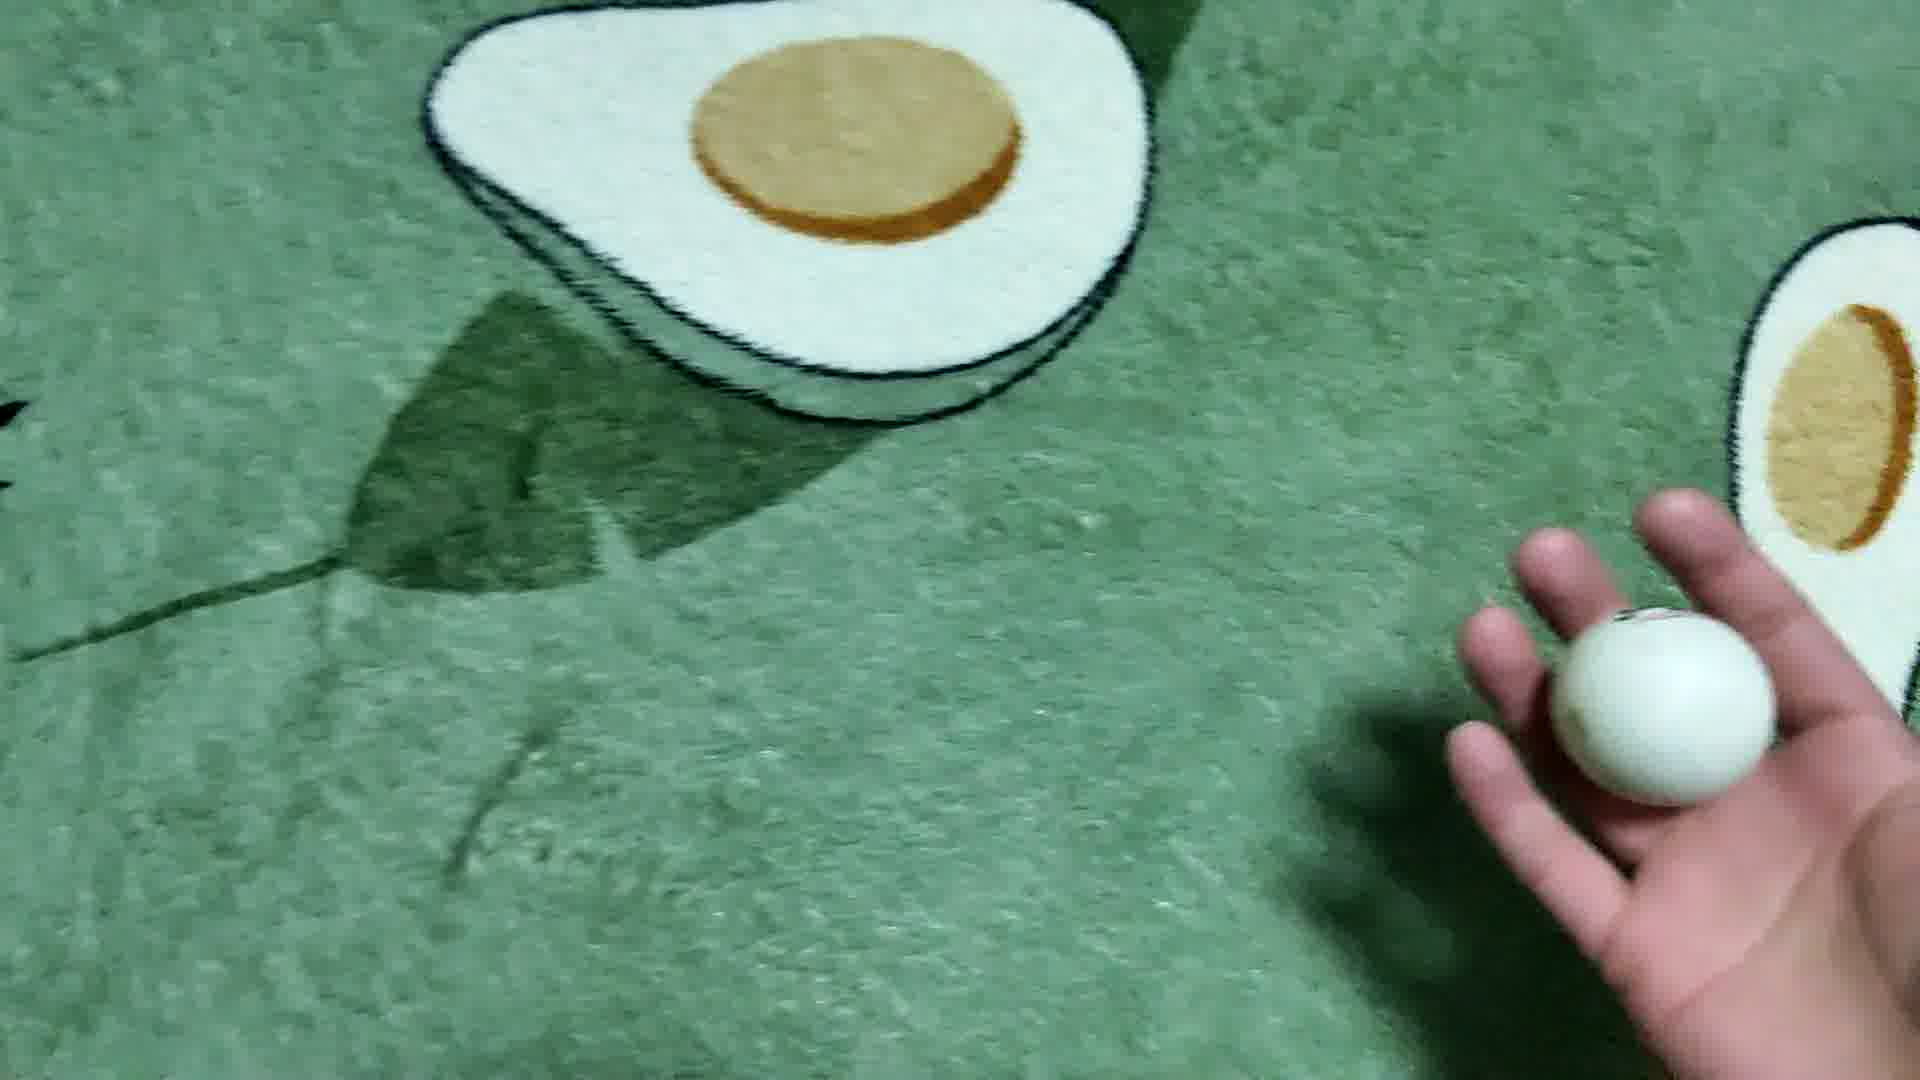Ball: (1551, 600, 1767, 806)
